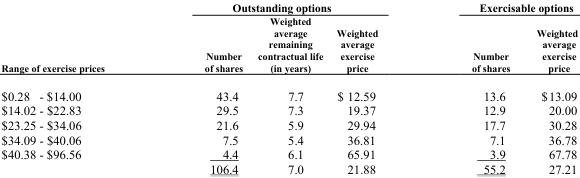table: (0, 1, 577, 175)
table column: (0, 1, 153, 175), (424, 1, 522, 175), (153, 1, 249, 175), (329, 1, 424, 175), (249, 1, 329, 175), (522, 1, 577, 175)
table column header: (0, 1, 577, 80)
table row: (0, 14, 577, 80), (0, 80, 577, 102), (0, 102, 577, 117), (0, 131, 577, 146), (0, 160, 577, 175), (0, 117, 577, 131), (0, 146, 577, 160), (0, 1, 577, 14)
table spanning cell: (0, 1, 153, 80), (153, 1, 424, 14), (424, 1, 577, 14)
